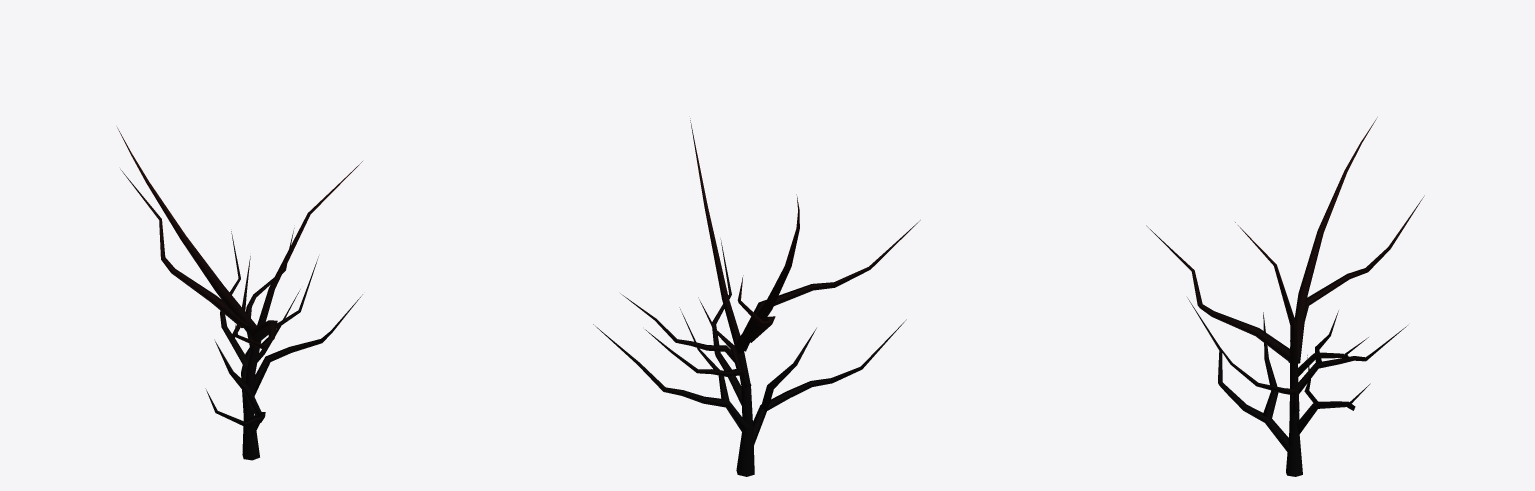
Rendered from test-tree8.glb.
3 views of the same model, side by side, from view 1: azimuth 30°, elevation 25°; view 2: azimuth 150°, elevation 25°; view 3: azimuth 270°, elevation 25° (orthographic). The views are drawn at different scales.
Parts seen in each view (by area): view 1: trunk.002; view 2: trunk.002; view 3: trunk.002.
Part boxes in pixels (left/top/right/bottom): trunk.002: left=117, top=127, right=362, bottom=460; trunk.002: left=593, top=118, right=920, bottom=476; trunk.002: left=1146, top=117, right=1424, bottom=476.
Size of the model in its own units: 39.97 by 43.56 by 45.22.
1 material, 1 textured.
